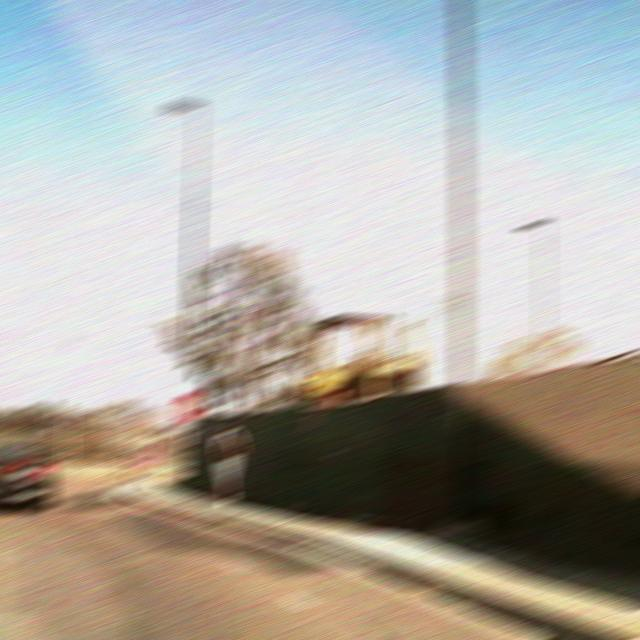stop: (173, 392, 203, 422)
